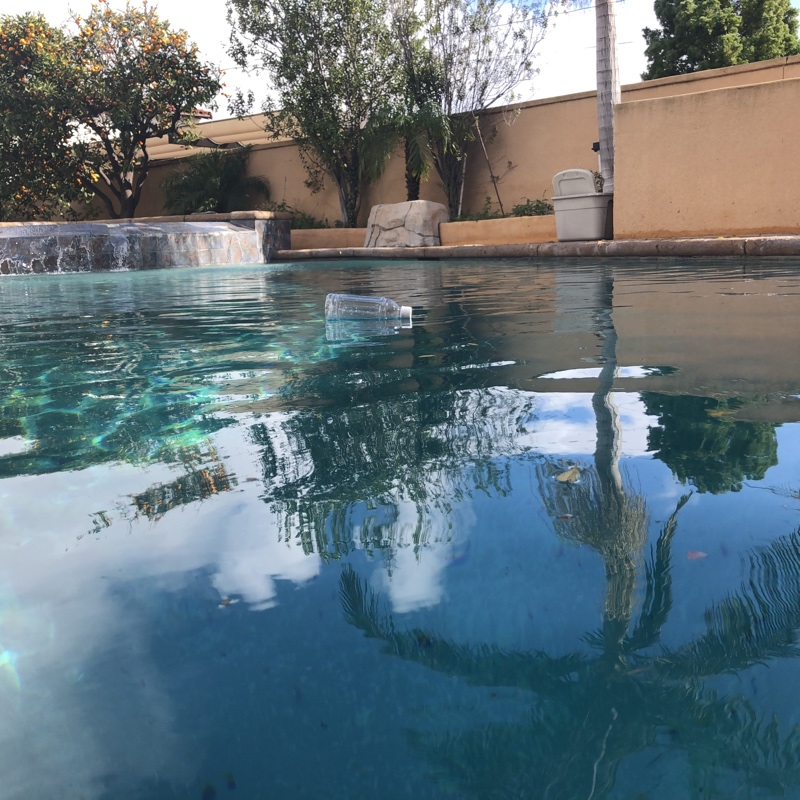Plastic Bottle: (322, 293, 416, 326)
